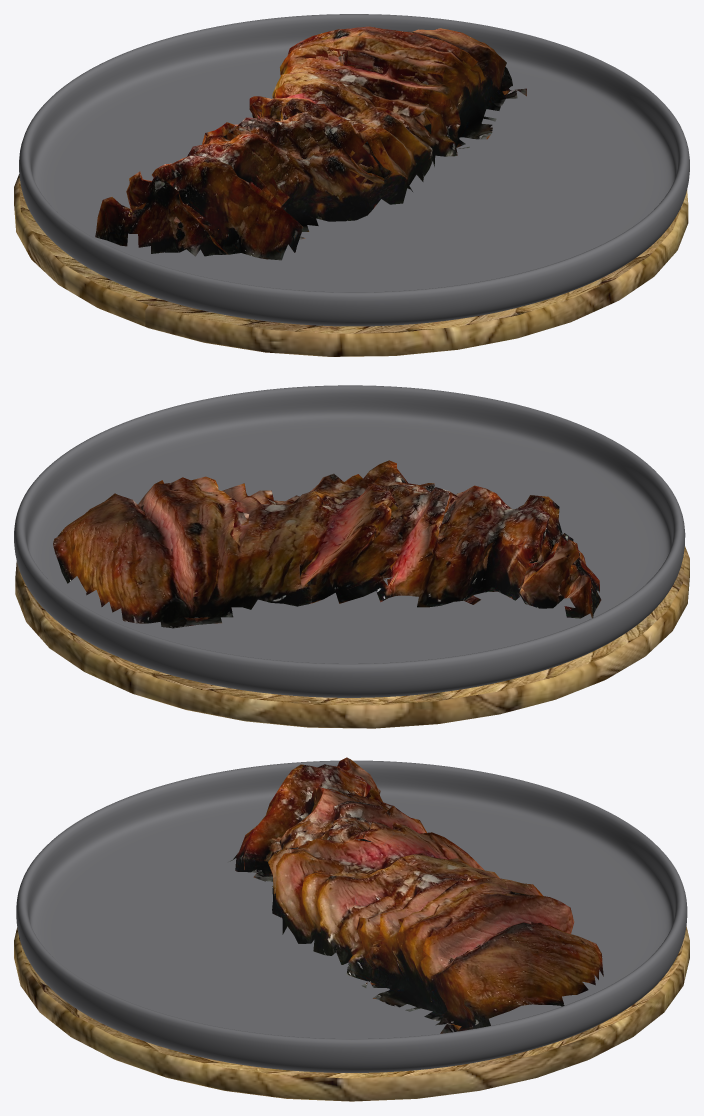
The model's file is picanha-fatiada.glb.
The picture shows the model from 3 angles, top to bottom: view 1: azimuth 30°, elevation 25°; view 2: azimuth 150°, elevation 25°; view 3: azimuth 270°, elevation 25°; orthographic projection.
Parts seen in each view (by area): view 1: Object_4, Object_6, Object_8; view 2: Object_4, Object_6, Object_8; view 3: Object_4, Object_6, Object_8.
Boxes of the visible parts, x1,y1,x2,y2 form: Object_4: (19, 14, 689, 326); Object_6: (95, 26, 526, 260); Object_8: (14, 174, 688, 356); Object_4: (14, 385, 685, 697); Object_6: (53, 460, 601, 628); Object_8: (15, 546, 689, 728); Object_4: (16, 760, 687, 1072); Object_6: (229, 757, 603, 1033); Object_8: (14, 926, 689, 1101).
Size of the model in its own units: 0.28 by 0.0543 by 0.2795.
Materials: 3 (2 with a texture image).
